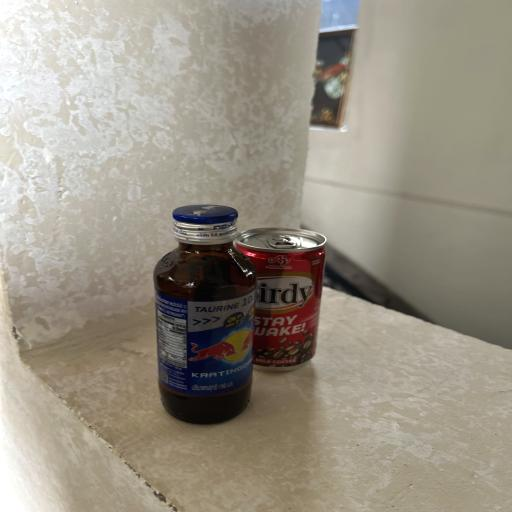birdy: (232, 226, 328, 380)
bo_huc: (156, 200, 256, 426)
